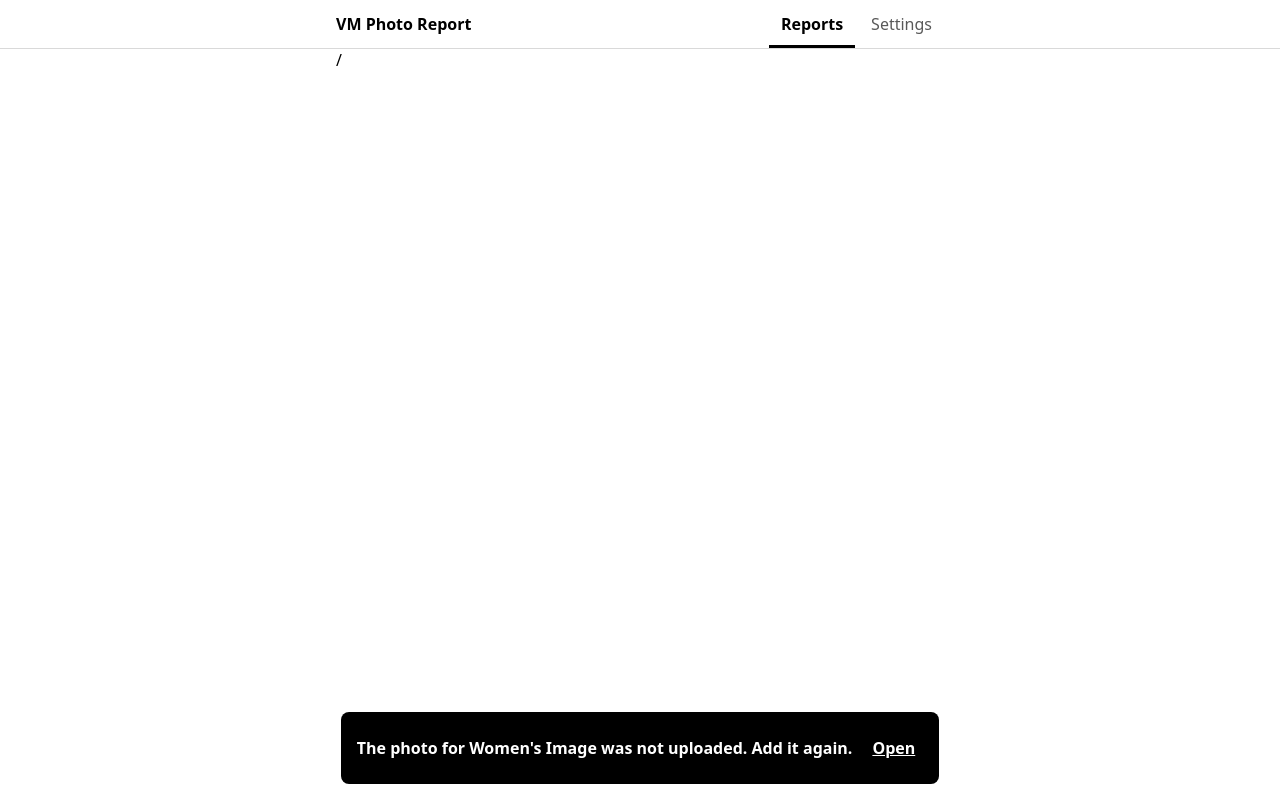
Test case: Layout lost uploads › a photo whose upload failed after the store left the zone is toasted by name wherever the user is; Open goes to the zone
The width and height of the screenshot is (1280, 800).
Click the button "Open". click: point(894, 748)
box: [864, 724, 923, 772]
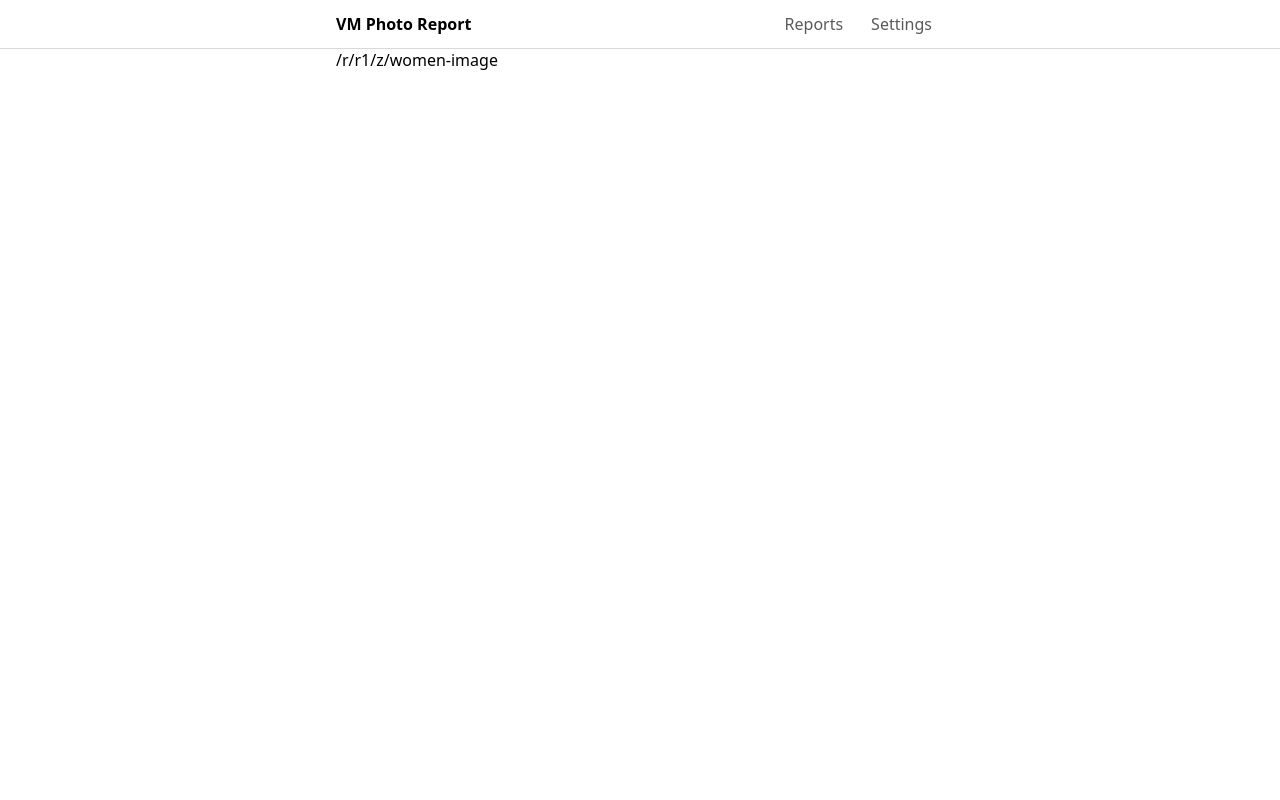
Expected: the text with test id "where" reads "/r/r1/z/women-image", [336, 49, 498, 71]
